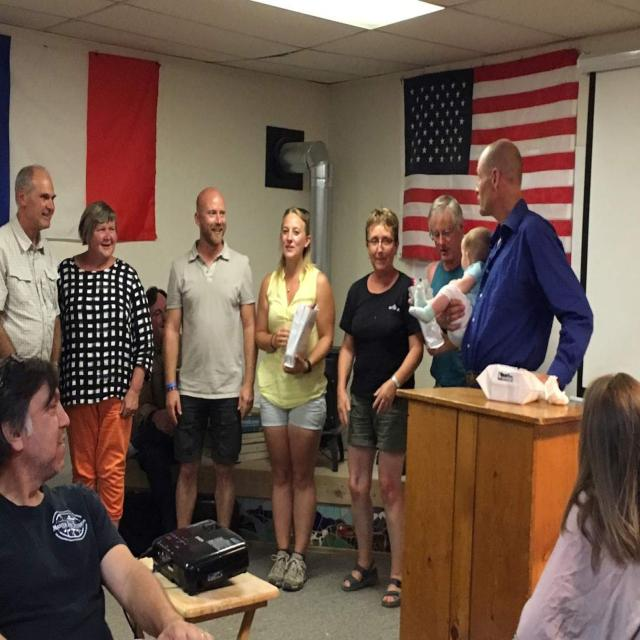body: (0, 352, 220, 639), (334, 204, 426, 612), (49, 196, 157, 536), (459, 138, 596, 395), (511, 370, 640, 639), (160, 185, 260, 529), (251, 204, 336, 594), (129, 285, 183, 532), (0, 162, 62, 372), (408, 226, 492, 348), (425, 195, 468, 388)
